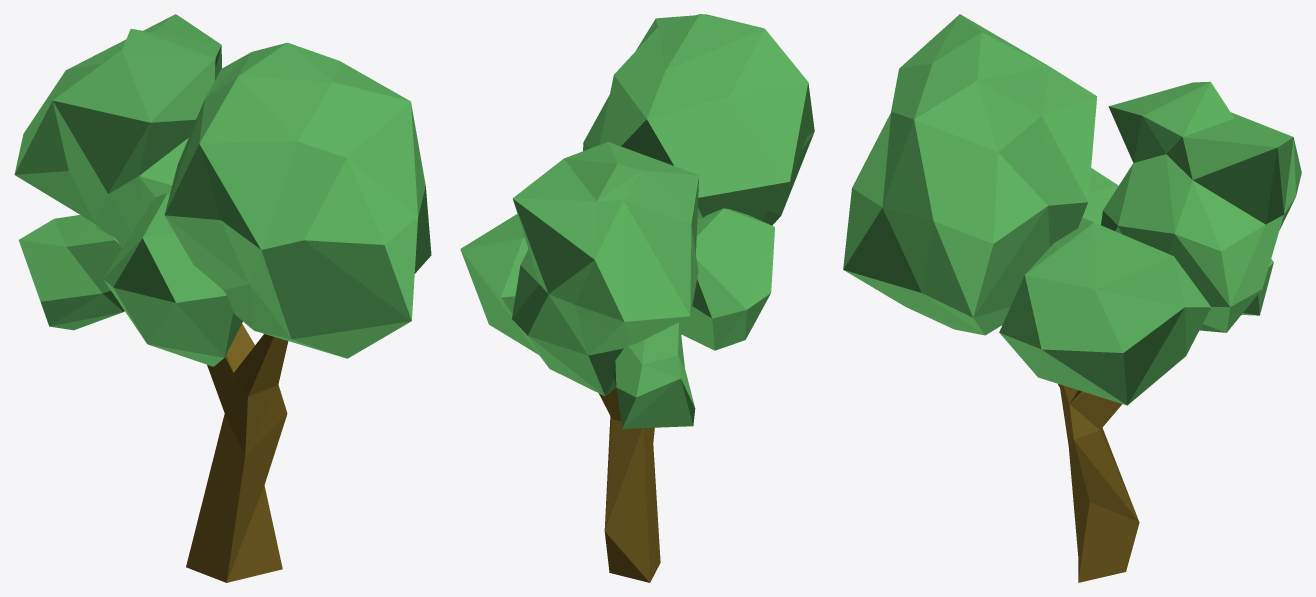
The model's file is shu4.FBX.
3 views of the same model, side by side, from view 1: azimuth 30°, elevation 25°; view 2: azimuth 150°, elevation 25°; view 3: azimuth 270°, elevation 25° (orthographic). The views are drawn at different scales.
Parts seen in each view (by area): view 1: Object251, Object252; view 2: Object251, Object252; view 3: Object251, Object252.
Part boxes in pixels (x1,y1,x2,y2): Object251: (14,14,431,366); Object252: (186,323,288,582); Object251: (460,14,814,428); Object252: (599,388,660,582); Object251: (843,14,1301,405); Object252: (1058,384,1139,582).
Size of the model in its own units: 1.76 by 3.18 by 2.5.
